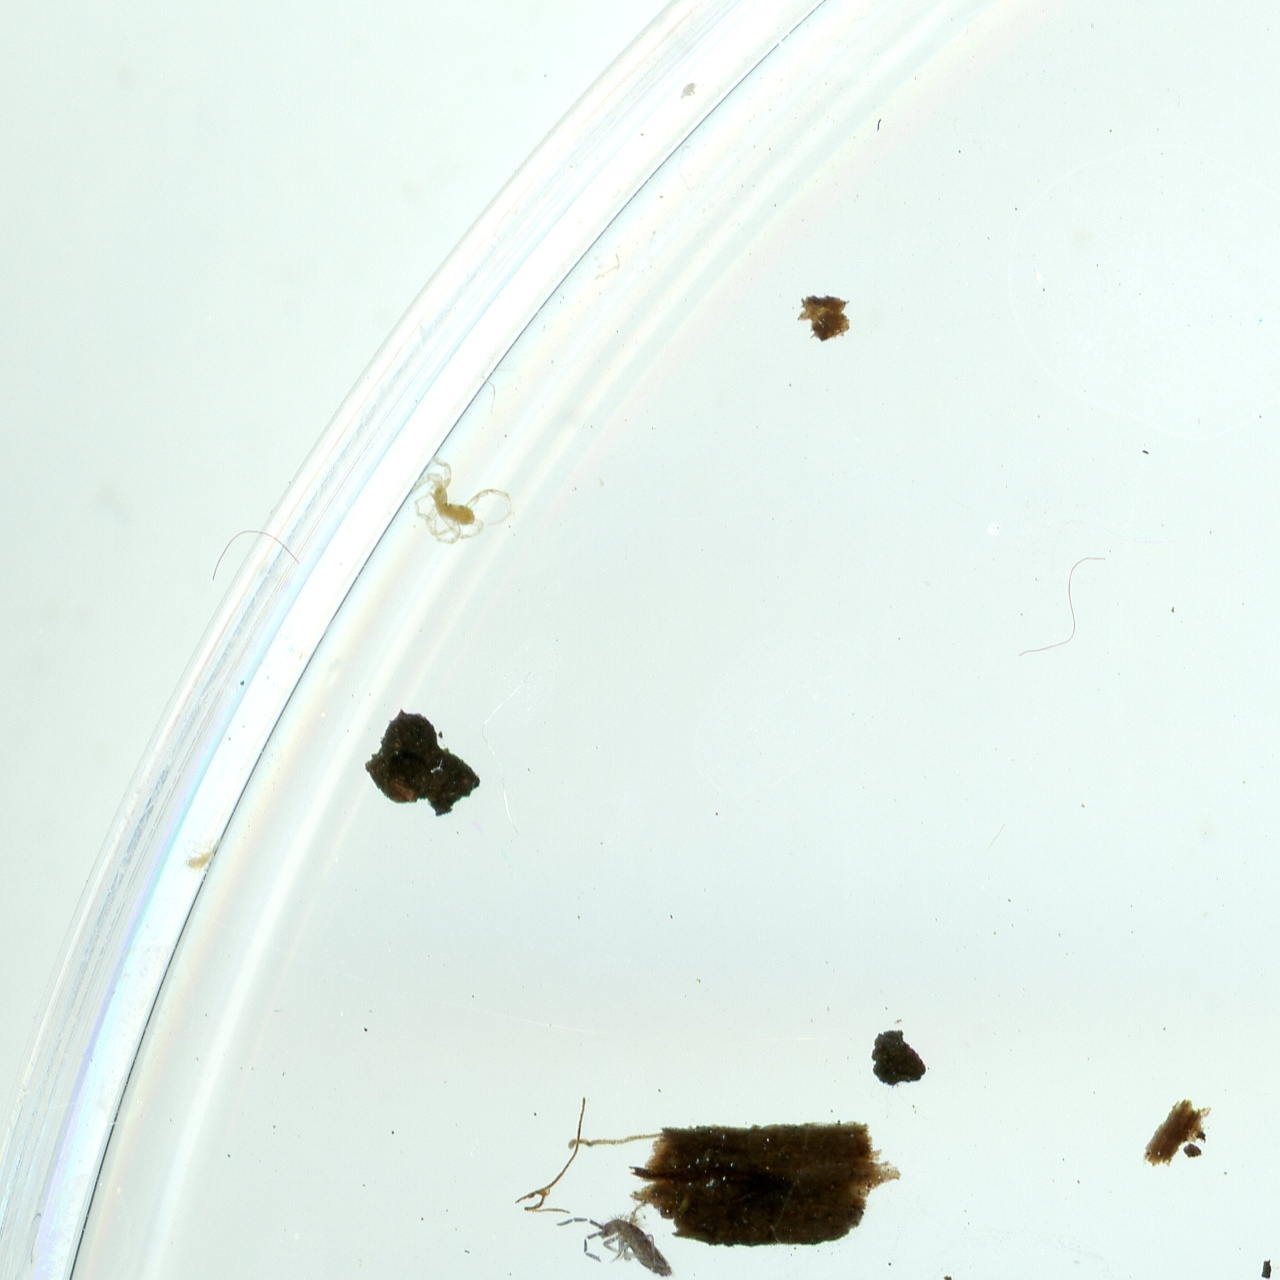arthropod: (410, 451, 522, 551), (549, 1211, 679, 1280), (182, 842, 218, 877)
